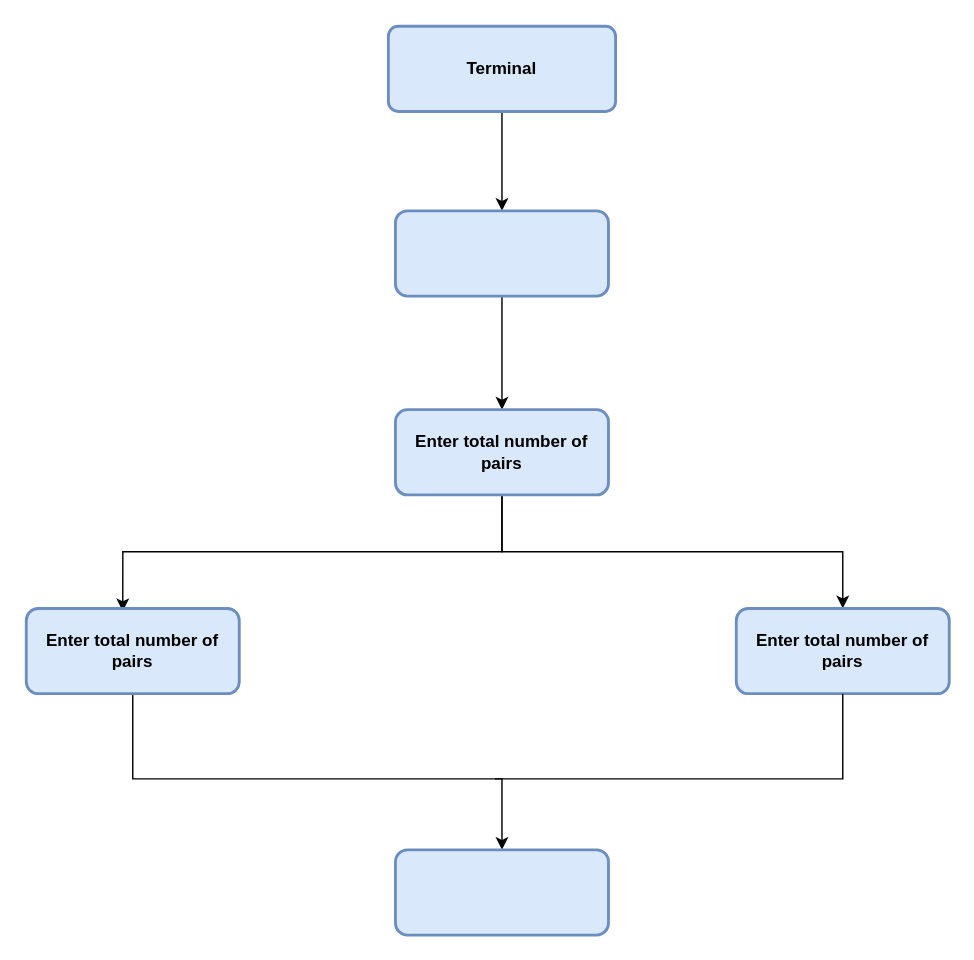
Image size: 974x960. Some labels were removed from this diagram. The shapes that lost their labels are listed below. From the top down, each one's box as (x1, y1, x2, y2) in pixels, then its label:
(393, 209, 609, 297): Disclaimer
(393, 848, 609, 936): Result
